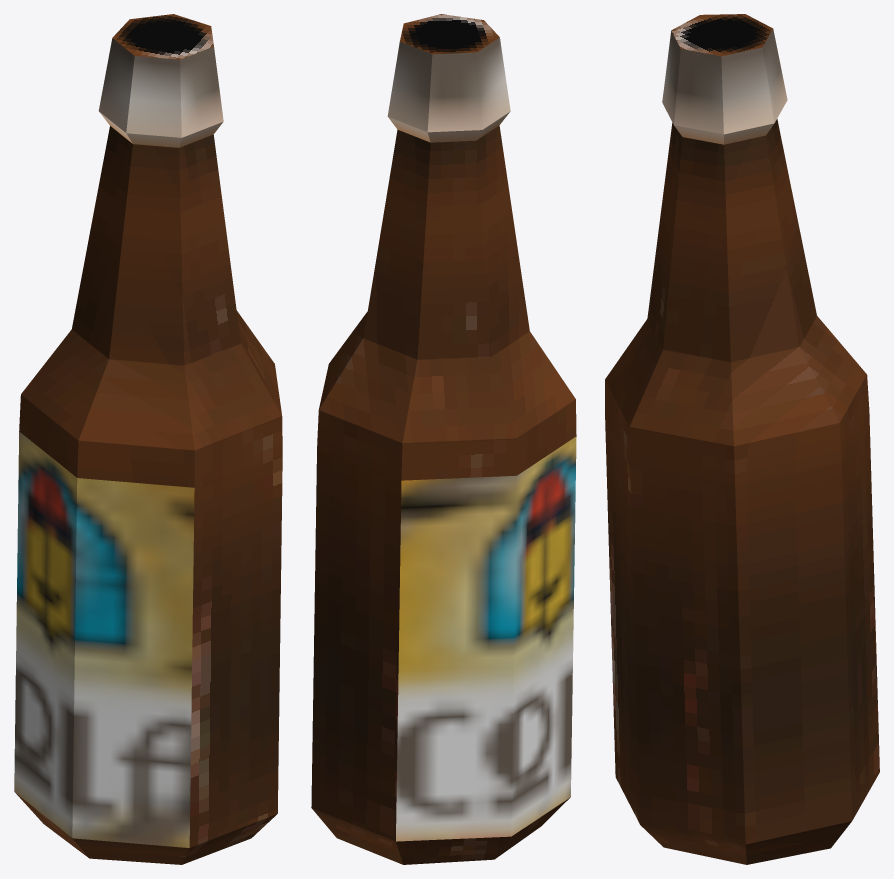
Rendered from Cola.fbx.
3 renders of one model, left to right at view 1: azimuth 30°, elevation 25°; view 2: azimuth 150°, elevation 25°; view 3: azimuth 270°, elevation 25°, orthographic. The views are drawn at different scales.
Visible parts, largest first — view 1: Empty_Mesh; view 2: Empty_Mesh; view 3: Empty_Mesh.
Boxes of the visible parts, left/top/right/bottom form: Empty_Mesh: left=14, top=14, right=282, bottom=864; Empty_Mesh: left=311, top=14, right=576, bottom=864; Empty_Mesh: left=605, top=14, right=879, bottom=864.
Bounding box in the file's own units: 9.39 × 31.48 × 9.97.
